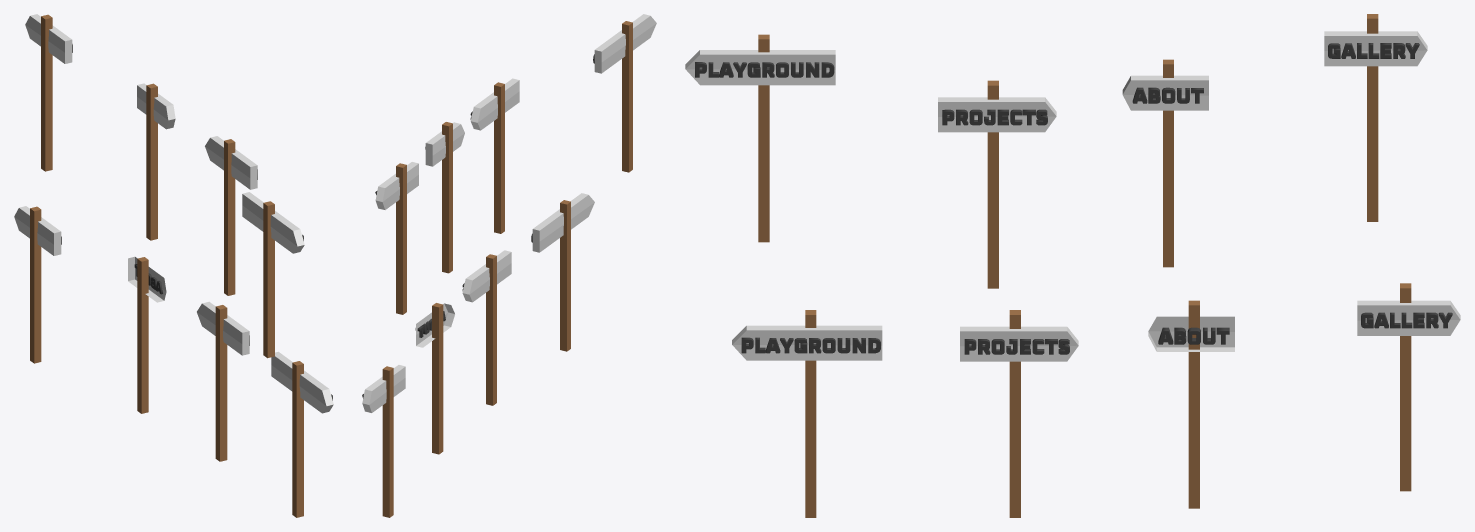
Rendered from signs.glb.
3 renders of one model, left to right at view 1: azimuth 30°, elevation 25°; view 2: azimuth 150°, elevation 25°; view 3: azimuth 270°, elevation 25°, orthographic. The views are drawn at different scales.
Parts seen in each view (by area): view 1: playground, projects, gallery, about, Cube.019, Cube.003, Cube.022, Cube.016, Cube.001, Cube.005, Cube.021, Cube.018; view 2: playground, projects, gallery, about, Cube.022, Cube.003, Cube.019, Cube.016, Cube.001, Cube.005, Cube.021, Cube.018; view 3: playground, projects, gallery, about, Cube.001, Cube.005, Cube.021, Cube.018, Cube.003, Cube.016, Cube.022, Cube.019 (+4 smaller).
Boxes of the visible parts, x1=… form: playground: x1=271, y1=351, x2=333, y2=517; projects: x1=197, y1=301, x2=249, y2=461; gallery: x1=14, y1=206, x2=61, y2=363; about: x1=128, y1=256, x2=166, y2=413; Cube.019: x1=146, y1=83, x2=157, y2=240; Cube.003: x1=263, y1=201, x2=274, y2=358; Cube.022: x1=41, y1=14, x2=52, y2=171; Cube.016: x1=224, y1=139, x2=235, y2=295; Cube.001: x1=242, y1=192, x2=304, y2=253; Cube.005: x1=205, y1=136, x2=257, y2=189; Cube.021: x1=25, y1=14, x2=72, y2=63; Cube.018: x1=137, y1=83, x2=175, y2=129; playground: x1=531, y1=193, x2=594, y2=351; projects: x1=462, y1=250, x2=511, y2=405; gallery: x1=362, y1=365, x2=405, y2=517; about: x1=415, y1=303, x2=454, y2=454; Cube.022: x1=396, y1=163, x2=406, y2=314; Cube.003: x1=622, y1=21, x2=632, y2=172; Cube.019: x1=442, y1=122, x2=452, y2=273; Cube.016: x1=494, y1=82, x2=504, y2=233; Cube.001: x1=594, y1=14, x2=656, y2=73; Cube.005: x1=470, y1=78, x2=519, y2=130; Cube.021: x1=375, y1=162, x2=418, y2=209; Cube.018: x1=425, y1=122, x2=464, y2=166; playground: x1=732, y1=310, x2=882, y2=517; projects: x1=960, y1=310, x2=1078, y2=517; gallery: x1=1357, y1=283, x2=1460, y2=491; about: x1=1148, y1=300, x2=1234, y2=508; Cube.001: x1=685, y1=50, x2=835, y2=85; Cube.005: x1=938, y1=97, x2=1056, y2=132; Cube.021: x1=1324, y1=31, x2=1427, y2=66; Cube.018: x1=1122, y1=75, x2=1208, y2=110; Cube.003: x1=758, y1=34, x2=769, y2=242; Cube.016: x1=987, y1=80, x2=998, y2=288; Cube.022: x1=1367, y1=14, x2=1378, y2=221; Cube.019: x1=1163, y1=59, x2=1173, y2=267.
Bounding box in the file's own units: 1.64 × 9.31 × 13.83.
